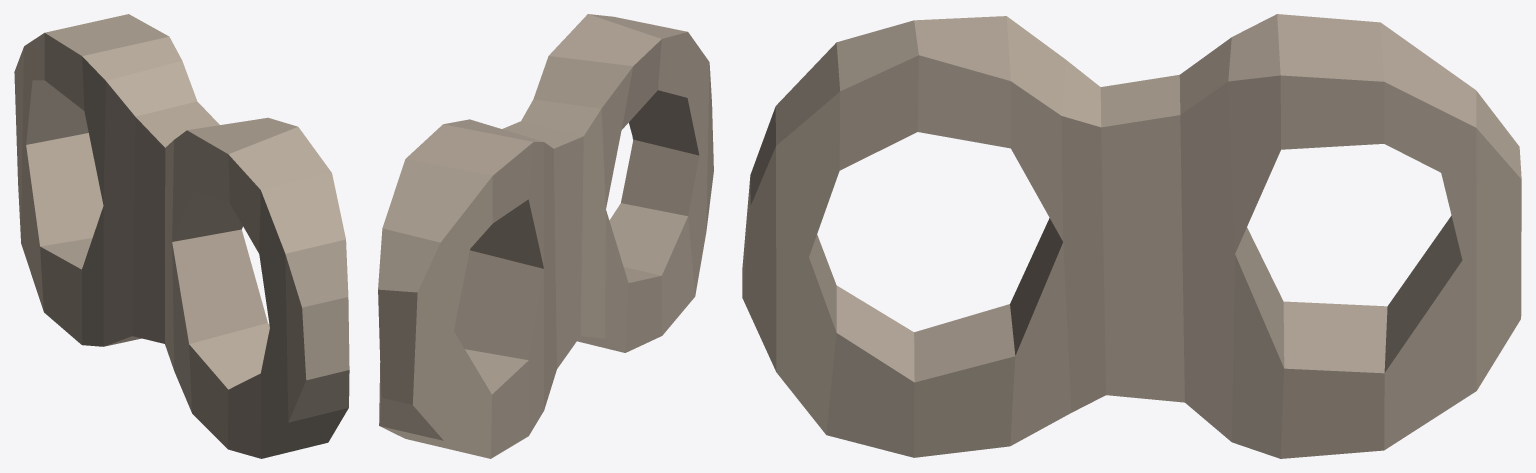
Rendered from BonePelvis.fbx.
The picture shows the model from 3 angles, left to right: view 1: azimuth 30°, elevation 25°; view 2: azimuth 150°, elevation 25°; view 3: azimuth 270°, elevation 25°; orthographic projection. The views are drawn at different scales.
Visible parts, largest first — view 1: Pelvis; view 2: Pelvis; view 3: Pelvis.
Boxes of the visible parts, x1,y1,x2,y2 form: Pelvis: [14, 14, 349, 458]; Pelvis: [378, 14, 713, 458]; Pelvis: [742, 14, 1521, 458].
Size of the model in its own units: 0.2281 by 0.7052 by 1.24.
